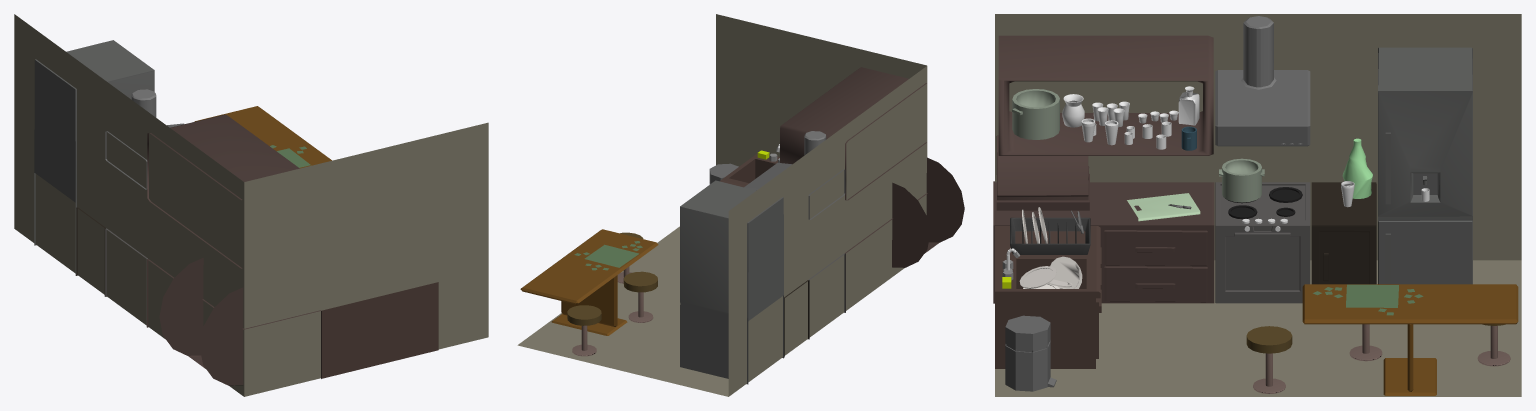
The model's file is Kitchen.fbx.
3 views of the same model, side by side, from view 1: azimuth 30°, elevation 25°; view 2: azimuth 150°, elevation 25°; view 3: azimuth 270°, elevation 25° (orthographic). The views are drawn at different scales.
Visible parts, largest first — view 1: House, Cupboard 1, Fridge, bread thing, Cupboard, Table, Sucking thing; view 2: House, Fridge, Table, Cupboard, bread thing, Chair Seat, Sucking thing, puzzle, Cupboard 1, Metal down part chair; view 3: House, Fridge, Cupboard, Cupboard 2, Table, Oven, Cupboard 1, Sucking thing, cupboard 3, bread thing, Glasses, Pots (+10 smaller).
Boxes of the visible parts, x1,y1,x2,y2 form: House: (14,14,488,396); Cupboard 1: (322,282,438,378); Fridge: (34,40,154,275); bread thing: (159,258,243,385); Cupboard: (147,114,299,268); Table: (194,106,331,168); Sucking thing: (105,89,184,189); House: (517,14,927,396); Fridge: (680,180,783,384); Table: (520,229,658,335); Cupboard: (780,67,926,200); bread thing: (892,157,964,267); Chair Seat: (567,232,657,325); Sucking thing: (744,131,845,219); puzzle: (574,241,642,270); Cupboard 1: (720,153,779,187); Metal down part chair: (572,272,653,356); House: (995,14,1521,396); Fridge: (1378,47,1472,284); Cupboard: (998,35,1213,155); Cupboard 2: (993,181,1214,303); Table: (1302,284,1518,395); Oven: (1215,182,1310,303); Cupboard 1: (995,226,1101,368); Sucking thing: (1215,16,1310,146); cupboard 3: (1311,182,1376,284); bread thing: (996,135,1089,210); Glasses: (1062,86,1429,207); Pots: (1012,89,1264,202).
Bounding box in the file's own units: 607 × 434 × 837.
